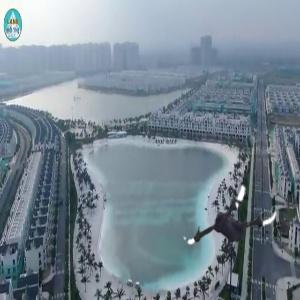drone: (182, 170, 281, 269)
